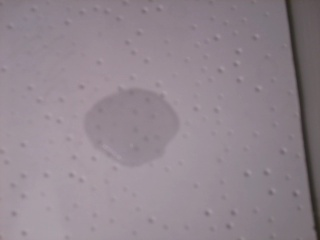Water_detected: (86, 91, 171, 160)
